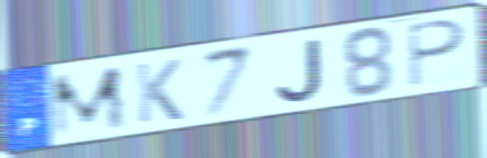7: (202, 41, 255, 122)
8: (340, 24, 398, 102)
J: (272, 36, 326, 105)
K: (132, 57, 186, 126)
M: (48, 62, 131, 141)
P: (404, 17, 470, 91)
